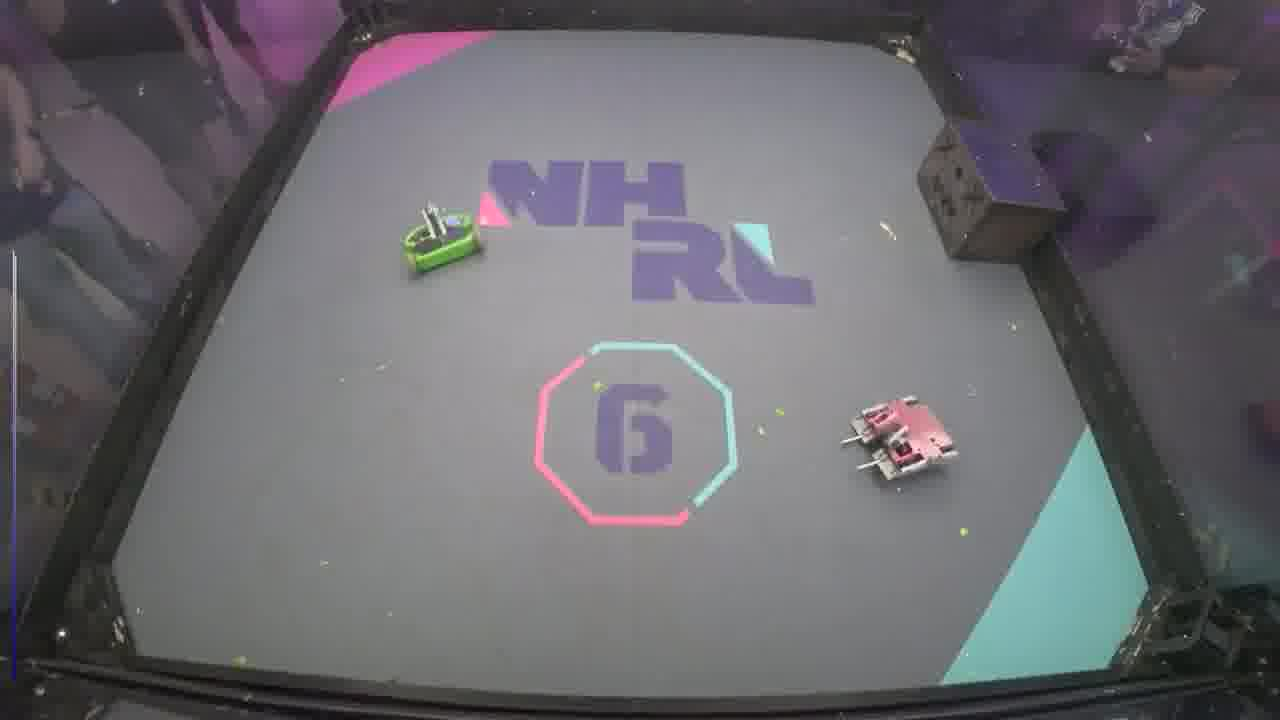combatbot: (840, 393, 960, 482), (401, 199, 485, 278)
housebot: (916, 123, 1066, 268)
